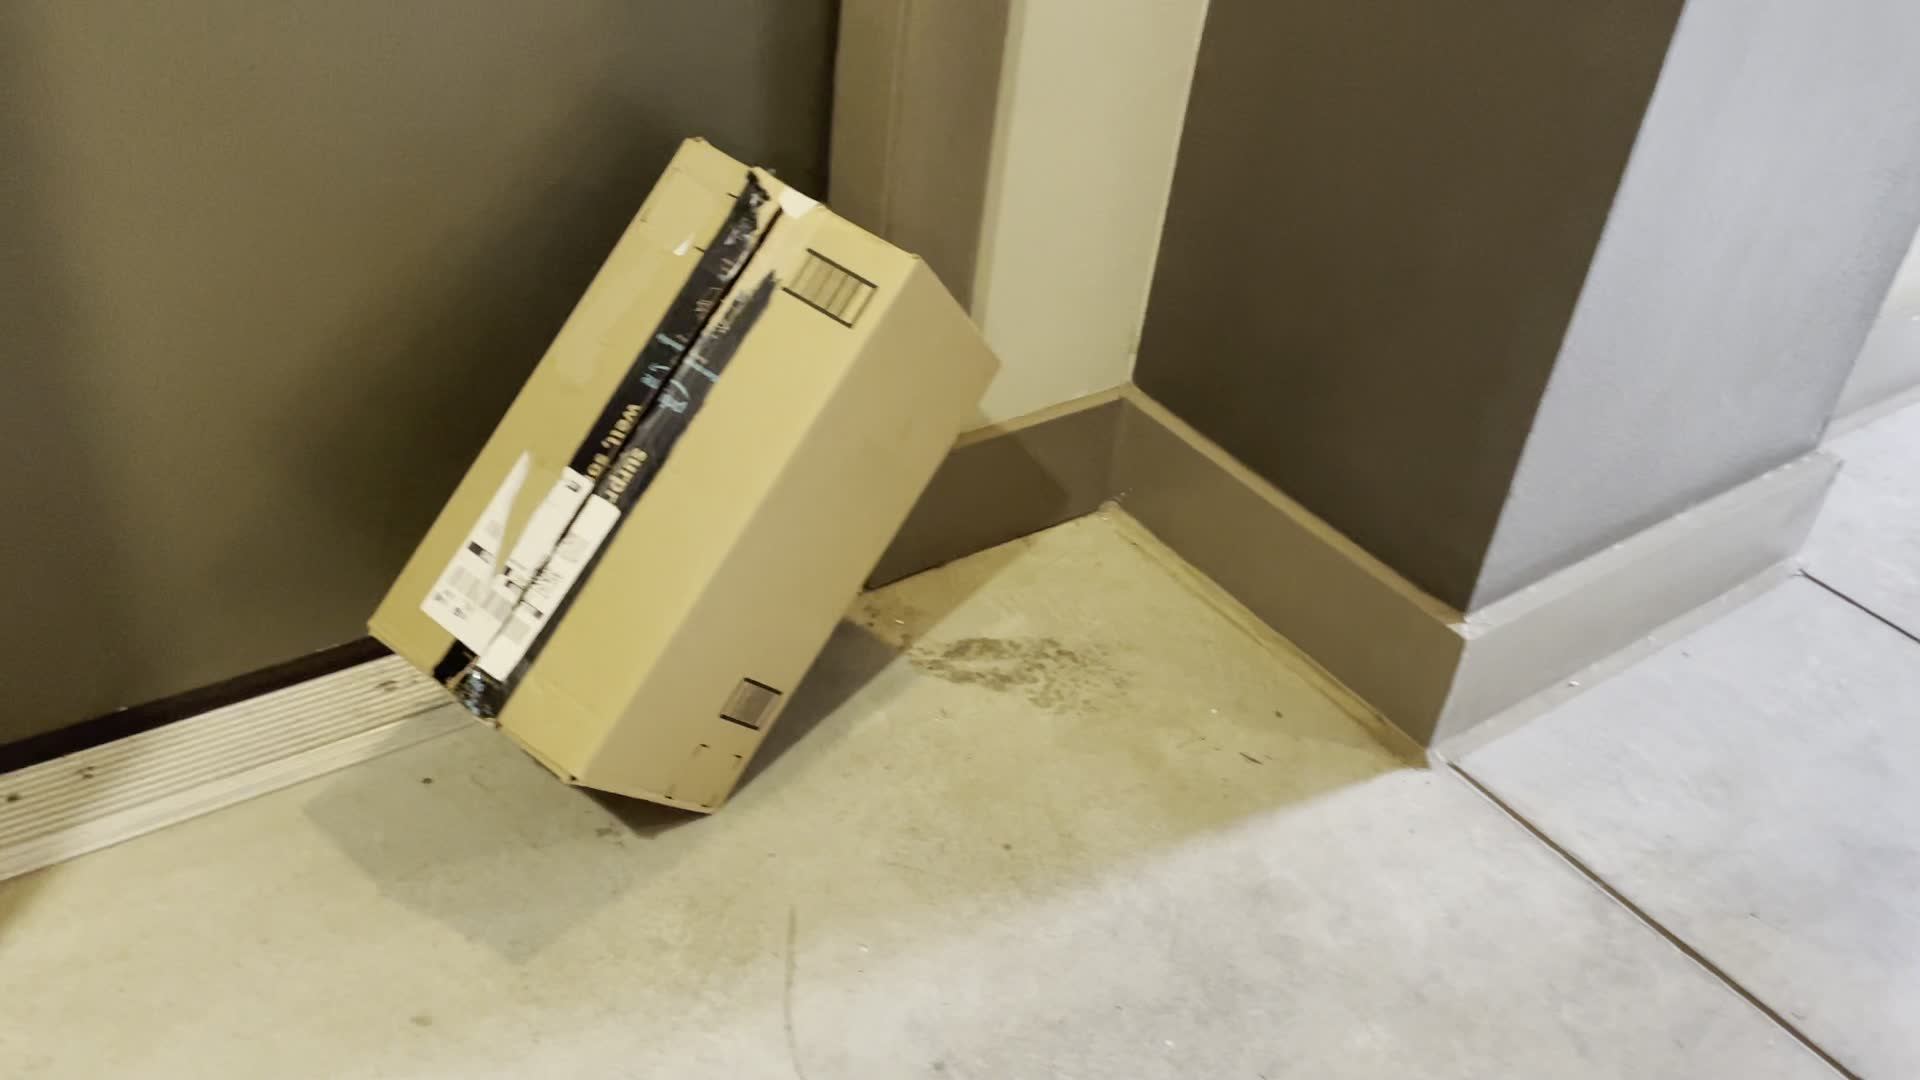box: (382, 74, 1009, 845)
